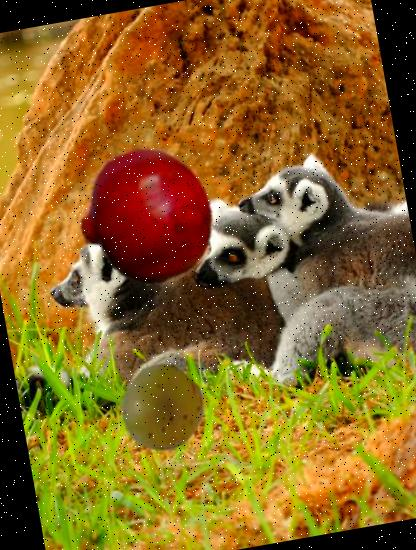Grape: (113, 360, 210, 456)
Pomegranate: (65, 137, 225, 297)
Redcurrant: (82, 153, 190, 261)
